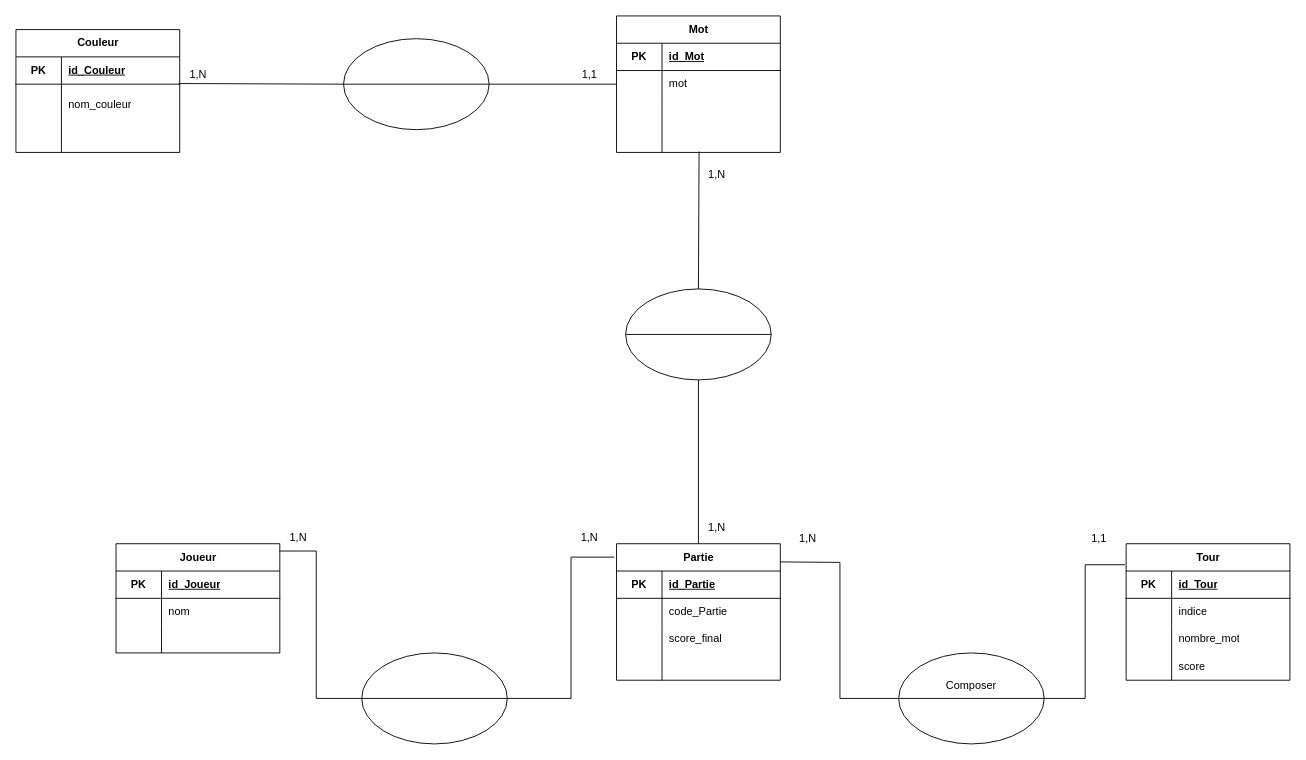
This 1306x760 diagram has some shape labels left out. The shapes that lost their labels are listed below. From the top down, each one's centre as x and y in pixels, then its label:
At (x=416, y=84): "Associer".
At (x=698, y=334): "Contenir".
At (x=434, y=698): "Participer role".
